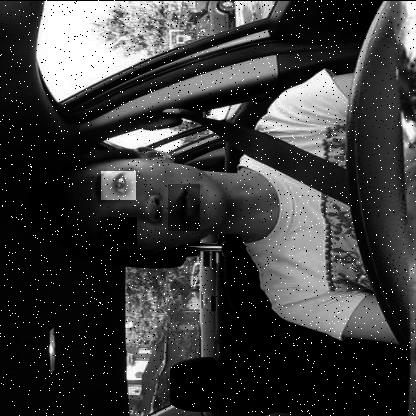seatbelt: (32, 122, 350, 276)
